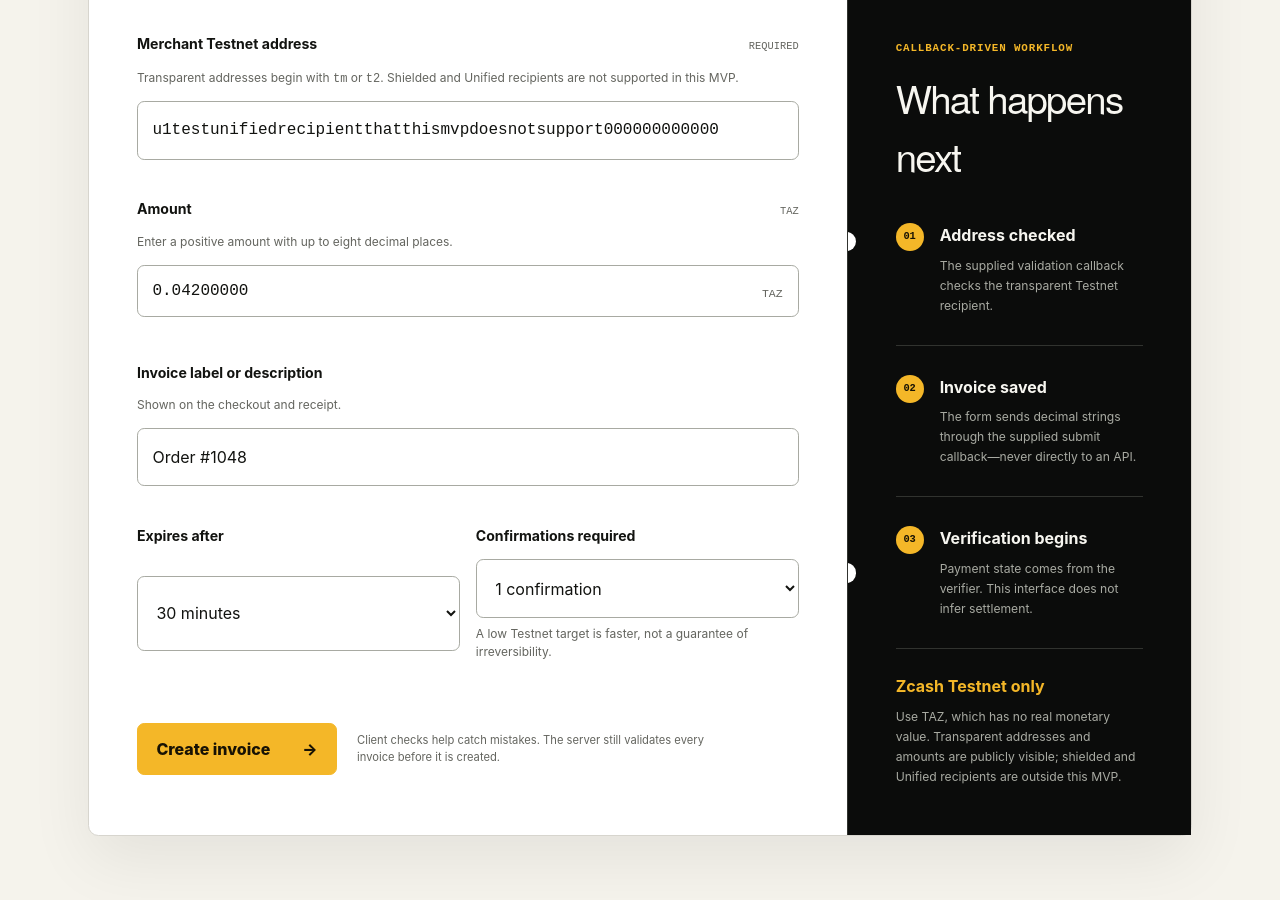
MerchantInvoiceForm › explains and rejects unsupported recipient formats
(page scrolled)
Click the button "Create invoice →" at x=237, y=749, box [137, 723, 337, 775]
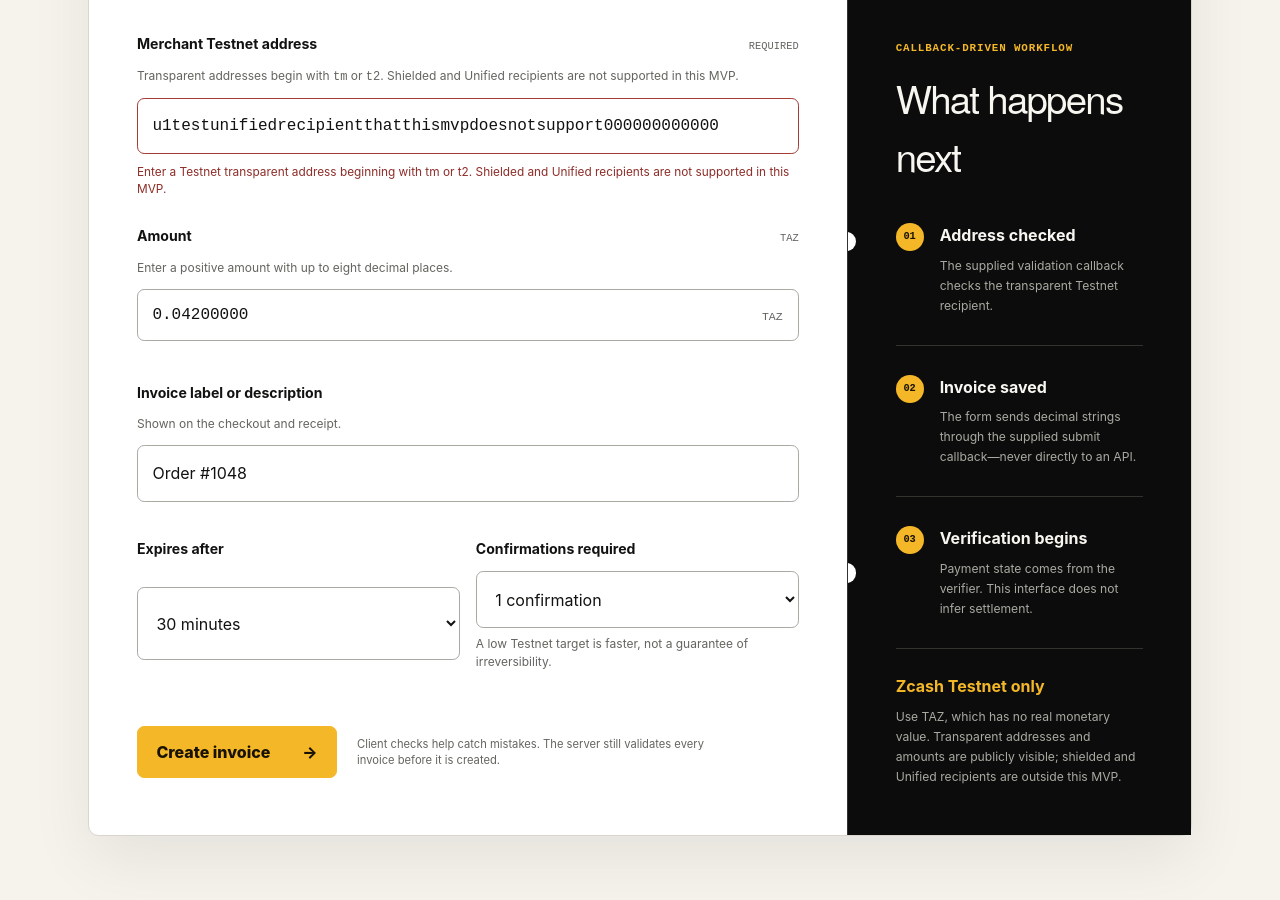
Expected: the message shows "Shielded and Unified recipients", [137, 165, 789, 196]
